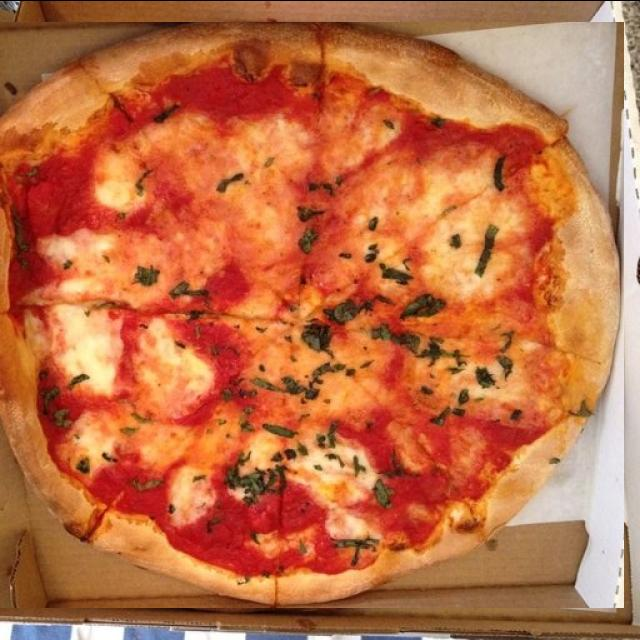pizza: (0, 21, 624, 607)
